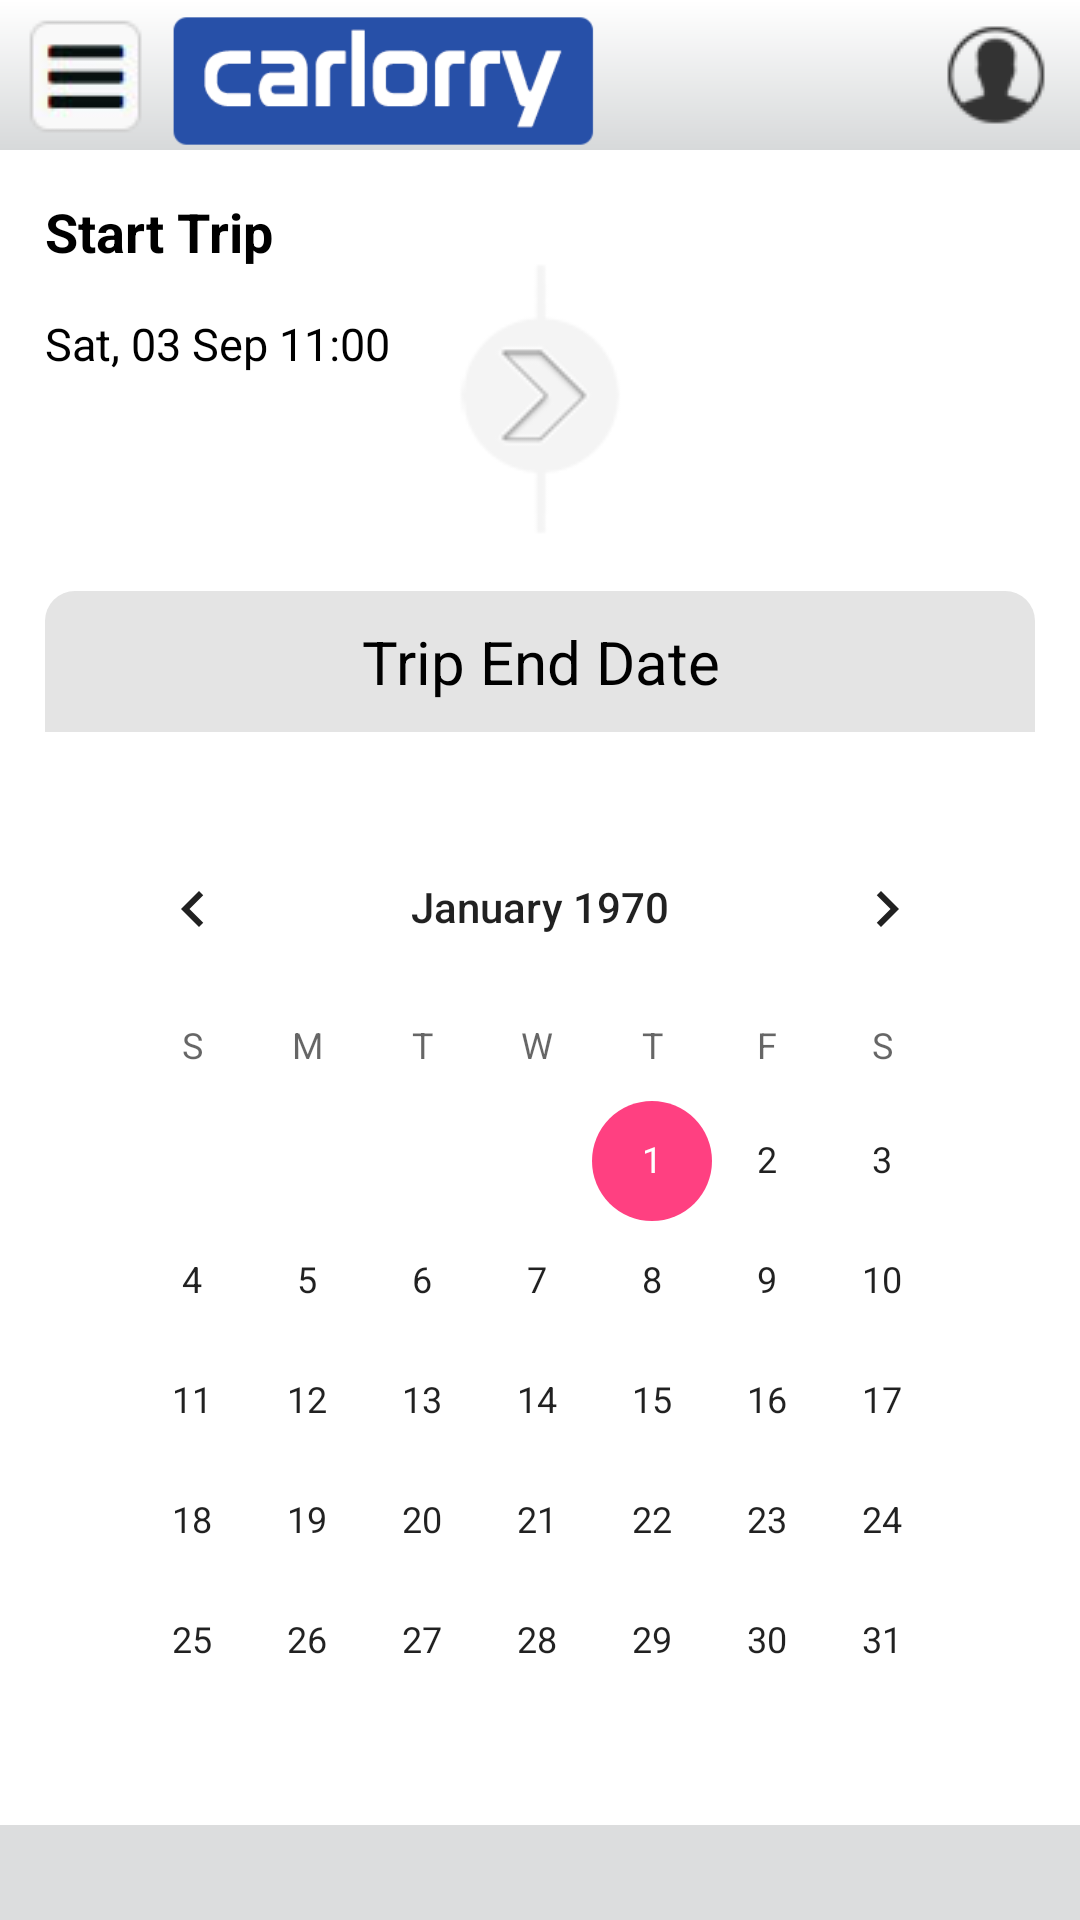

Locate icon controls on the screen. Image size 1080w x 1920h, boxes as bbox(x1, y1, x2, y2).
list main: bbox(3, 20, 165, 150)
user log: bbox(915, 26, 1077, 150)
